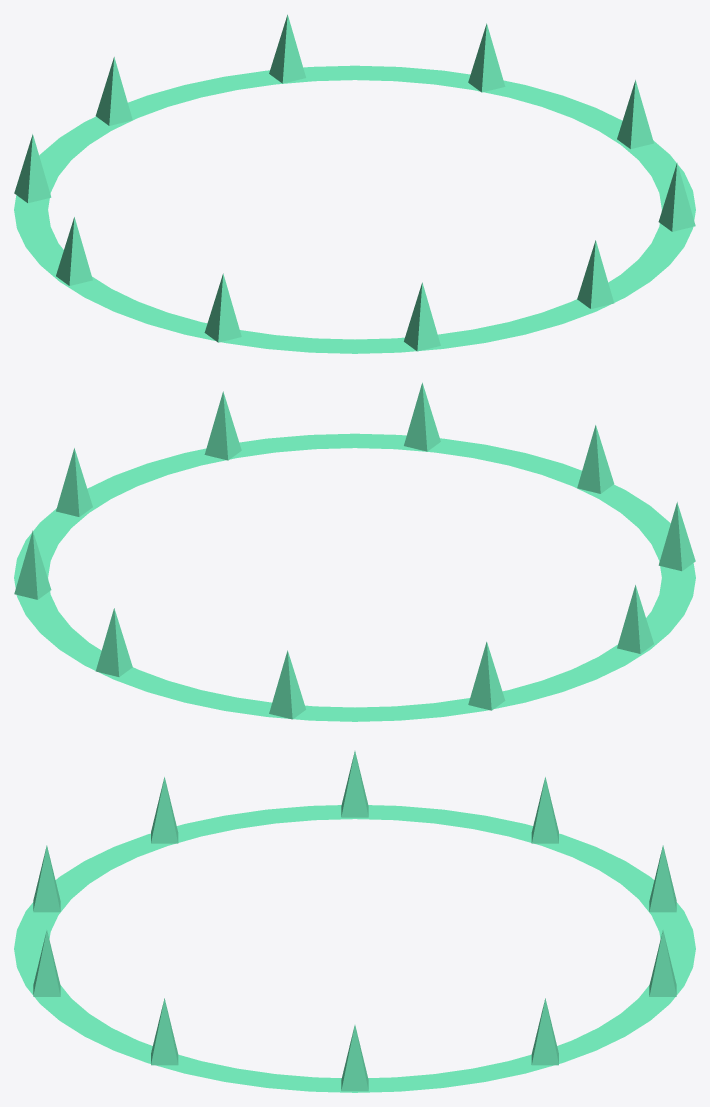
File: ghoul_bomb_mark.glb
The picture shows the model from 3 angles, top to bottom: view 1: azimuth 30°, elevation 25°; view 2: azimuth 150°, elevation 25°; view 3: azimuth 270°, elevation 25°; orthographic projection.
Visible parts, largest first — view 1: ghoul_bomb_mark; view 2: ghoul_bomb_mark; view 3: ghoul_bomb_mark.
Part boxes in pixels (x1,y1,x2,y2): ghoul_bomb_mark: (14,14,695,353); ghoul_bomb_mark: (14,382,695,721); ghoul_bomb_mark: (14,751,695,1092).
Bounding box in the file's own units: 2 × 0.2 × 2.
1 material, 1 textured.
